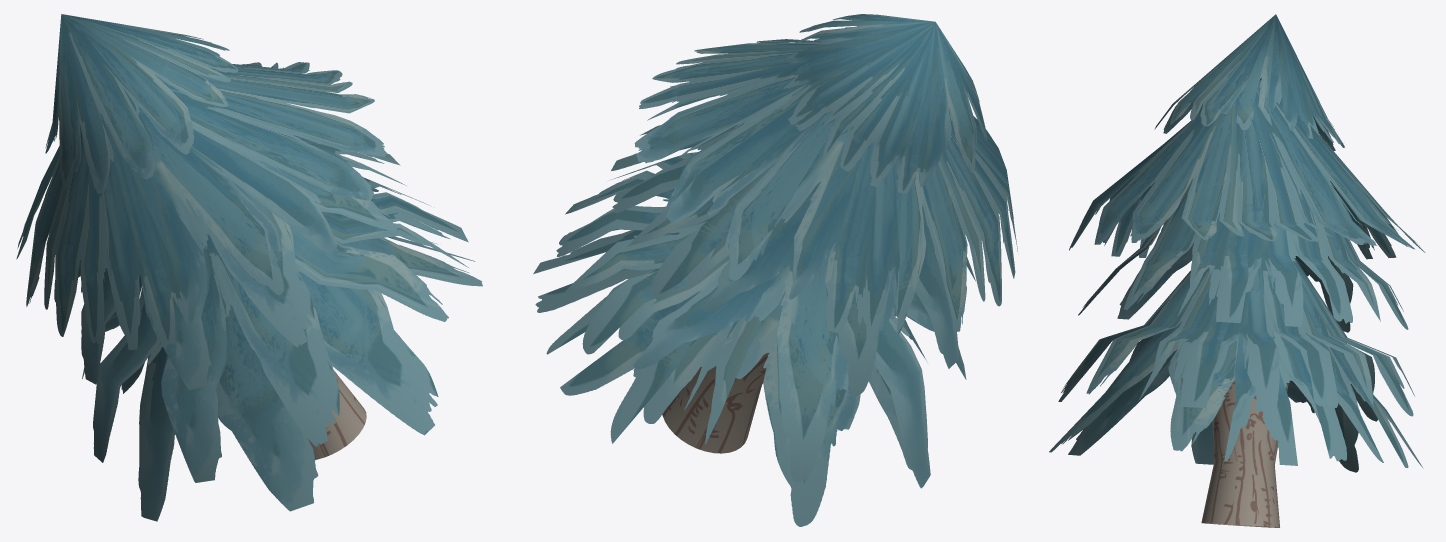
The model's file is Tree.fbx.
The picture shows the model from 3 angles, left to right: view 1: azimuth 30°, elevation 25°; view 2: azimuth 150°, elevation 25°; view 3: azimuth 270°, elevation 25°; orthographic projection. The views are drawn at different scales.
Visible parts, largest first — view 1: Cylinder.001; view 2: Cylinder.001; view 3: Cylinder.001.
Boxes of the visible parts, box(x1,y1,x2,y2) form: Cylinder.001: box(16, 14, 482, 521); Cylinder.001: box(533, 14, 1017, 526); Cylinder.001: box(1049, 14, 1425, 527).
Size of the model in its own units: 166 by 150 by 186.
